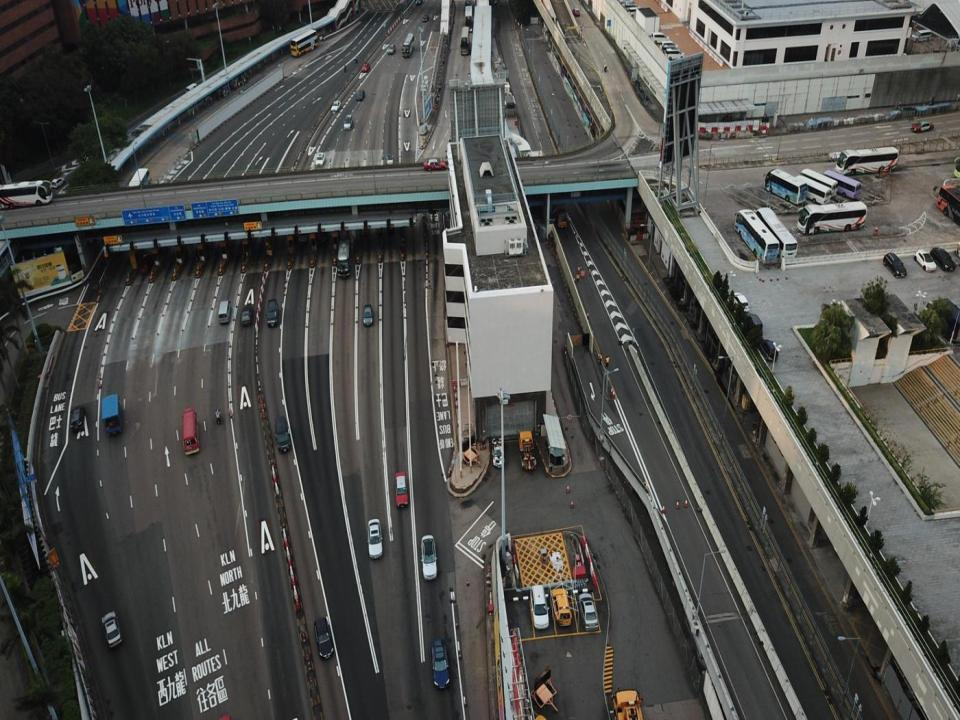bus: (752, 206, 798, 263), (734, 208, 779, 264), (797, 201, 867, 234), (834, 146, 899, 175), (763, 168, 807, 204), (0, 180, 52, 209), (818, 169, 861, 199), (790, 174, 831, 204), (799, 168, 838, 197), (124, 167, 152, 206), (182, 408, 199, 455), (936, 184, 955, 224), (291, 29, 318, 57), (338, 238, 350, 278), (401, 33, 414, 57), (460, 26, 469, 55), (464, 5, 472, 32)
car: (431, 638, 450, 688), (578, 593, 598, 630), (102, 610, 122, 647), (421, 534, 437, 580), (930, 246, 954, 270), (368, 518, 382, 558), (914, 250, 936, 272), (395, 472, 408, 506), (730, 292, 750, 312), (492, 437, 504, 467), (423, 158, 446, 171), (911, 121, 934, 134), (139, 255, 154, 274), (362, 305, 373, 326), (241, 305, 252, 325), (298, 222, 308, 242), (319, 225, 330, 241), (51, 177, 64, 188), (315, 154, 325, 166), (622, 1, 634, 9), (331, 100, 340, 110), (362, 63, 370, 72), (572, 8, 581, 16), (357, 90, 364, 100), (422, 15, 428, 22), (415, 0, 422, 5)
truck: (611, 687, 643, 719), (516, 428, 538, 472), (101, 394, 122, 435), (551, 189, 567, 229)
van: (550, 586, 572, 626), (530, 584, 549, 628), (314, 617, 333, 659), (882, 252, 906, 278), (275, 416, 291, 453), (759, 338, 778, 361), (744, 312, 762, 336), (70, 406, 84, 433), (218, 300, 232, 324), (266, 300, 278, 326), (911, 29, 931, 42), (661, 44, 679, 57), (665, 48, 684, 60), (651, 32, 669, 44), (659, 40, 678, 51), (186, 82, 199, 94), (624, 3, 639, 13), (344, 114, 353, 130), (628, 7, 641, 18), (388, 44, 396, 54)
